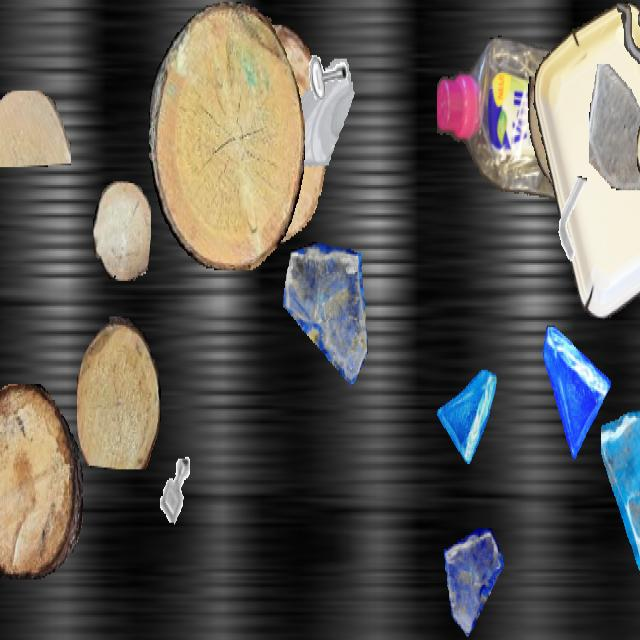glass: (283, 242, 367, 391), (283, 58, 359, 194), (535, 326, 611, 460), (443, 528, 505, 638), (601, 410, 640, 578), (436, 357, 496, 464), (589, 64, 640, 188)
metal: (298, 2, 352, 98), (150, 444, 202, 537), (548, 176, 598, 265)
plastic: (531, 2, 640, 318), (437, 32, 613, 224), (617, 2, 640, 112), (637, 89, 640, 188)
wood: (149, 2, 305, 268), (209, 25, 327, 245), (0, 384, 83, 580), (77, 316, 161, 469), (527, 76, 629, 198), (93, 181, 151, 281), (0, 91, 70, 165)
